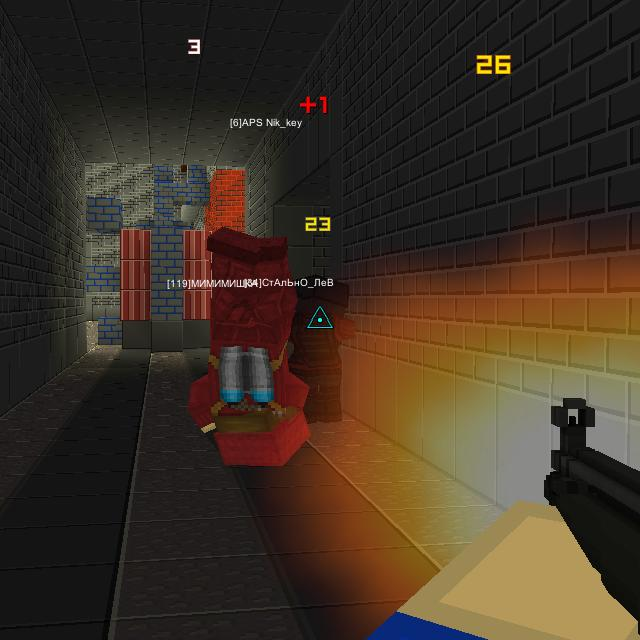enemy: (286, 275, 358, 427)
